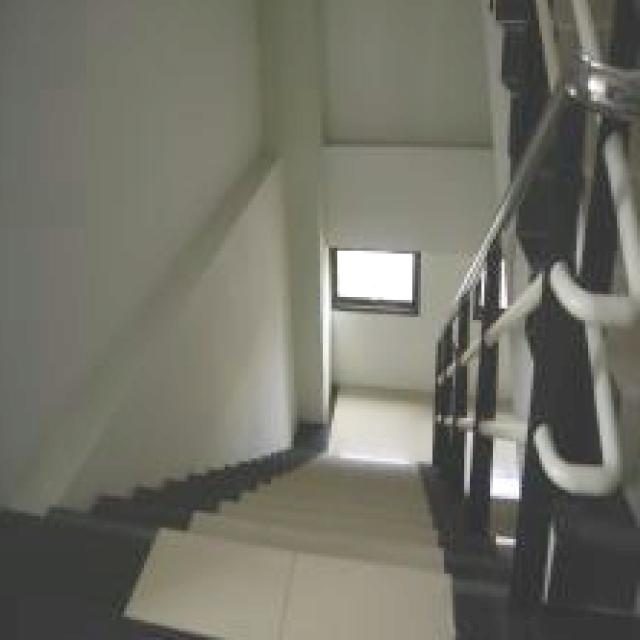downstair: (168, 430, 445, 640)
